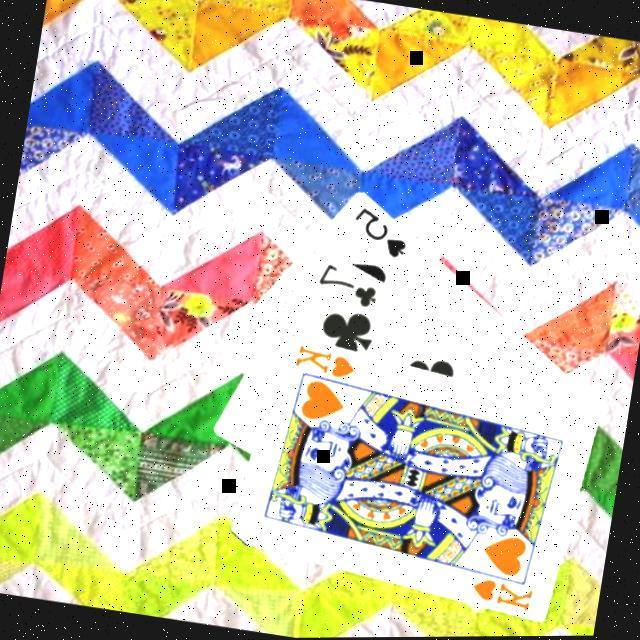5S: (348, 201, 417, 262)
7C: (314, 258, 386, 312)
KH: (468, 571, 540, 614), (293, 340, 363, 383)
